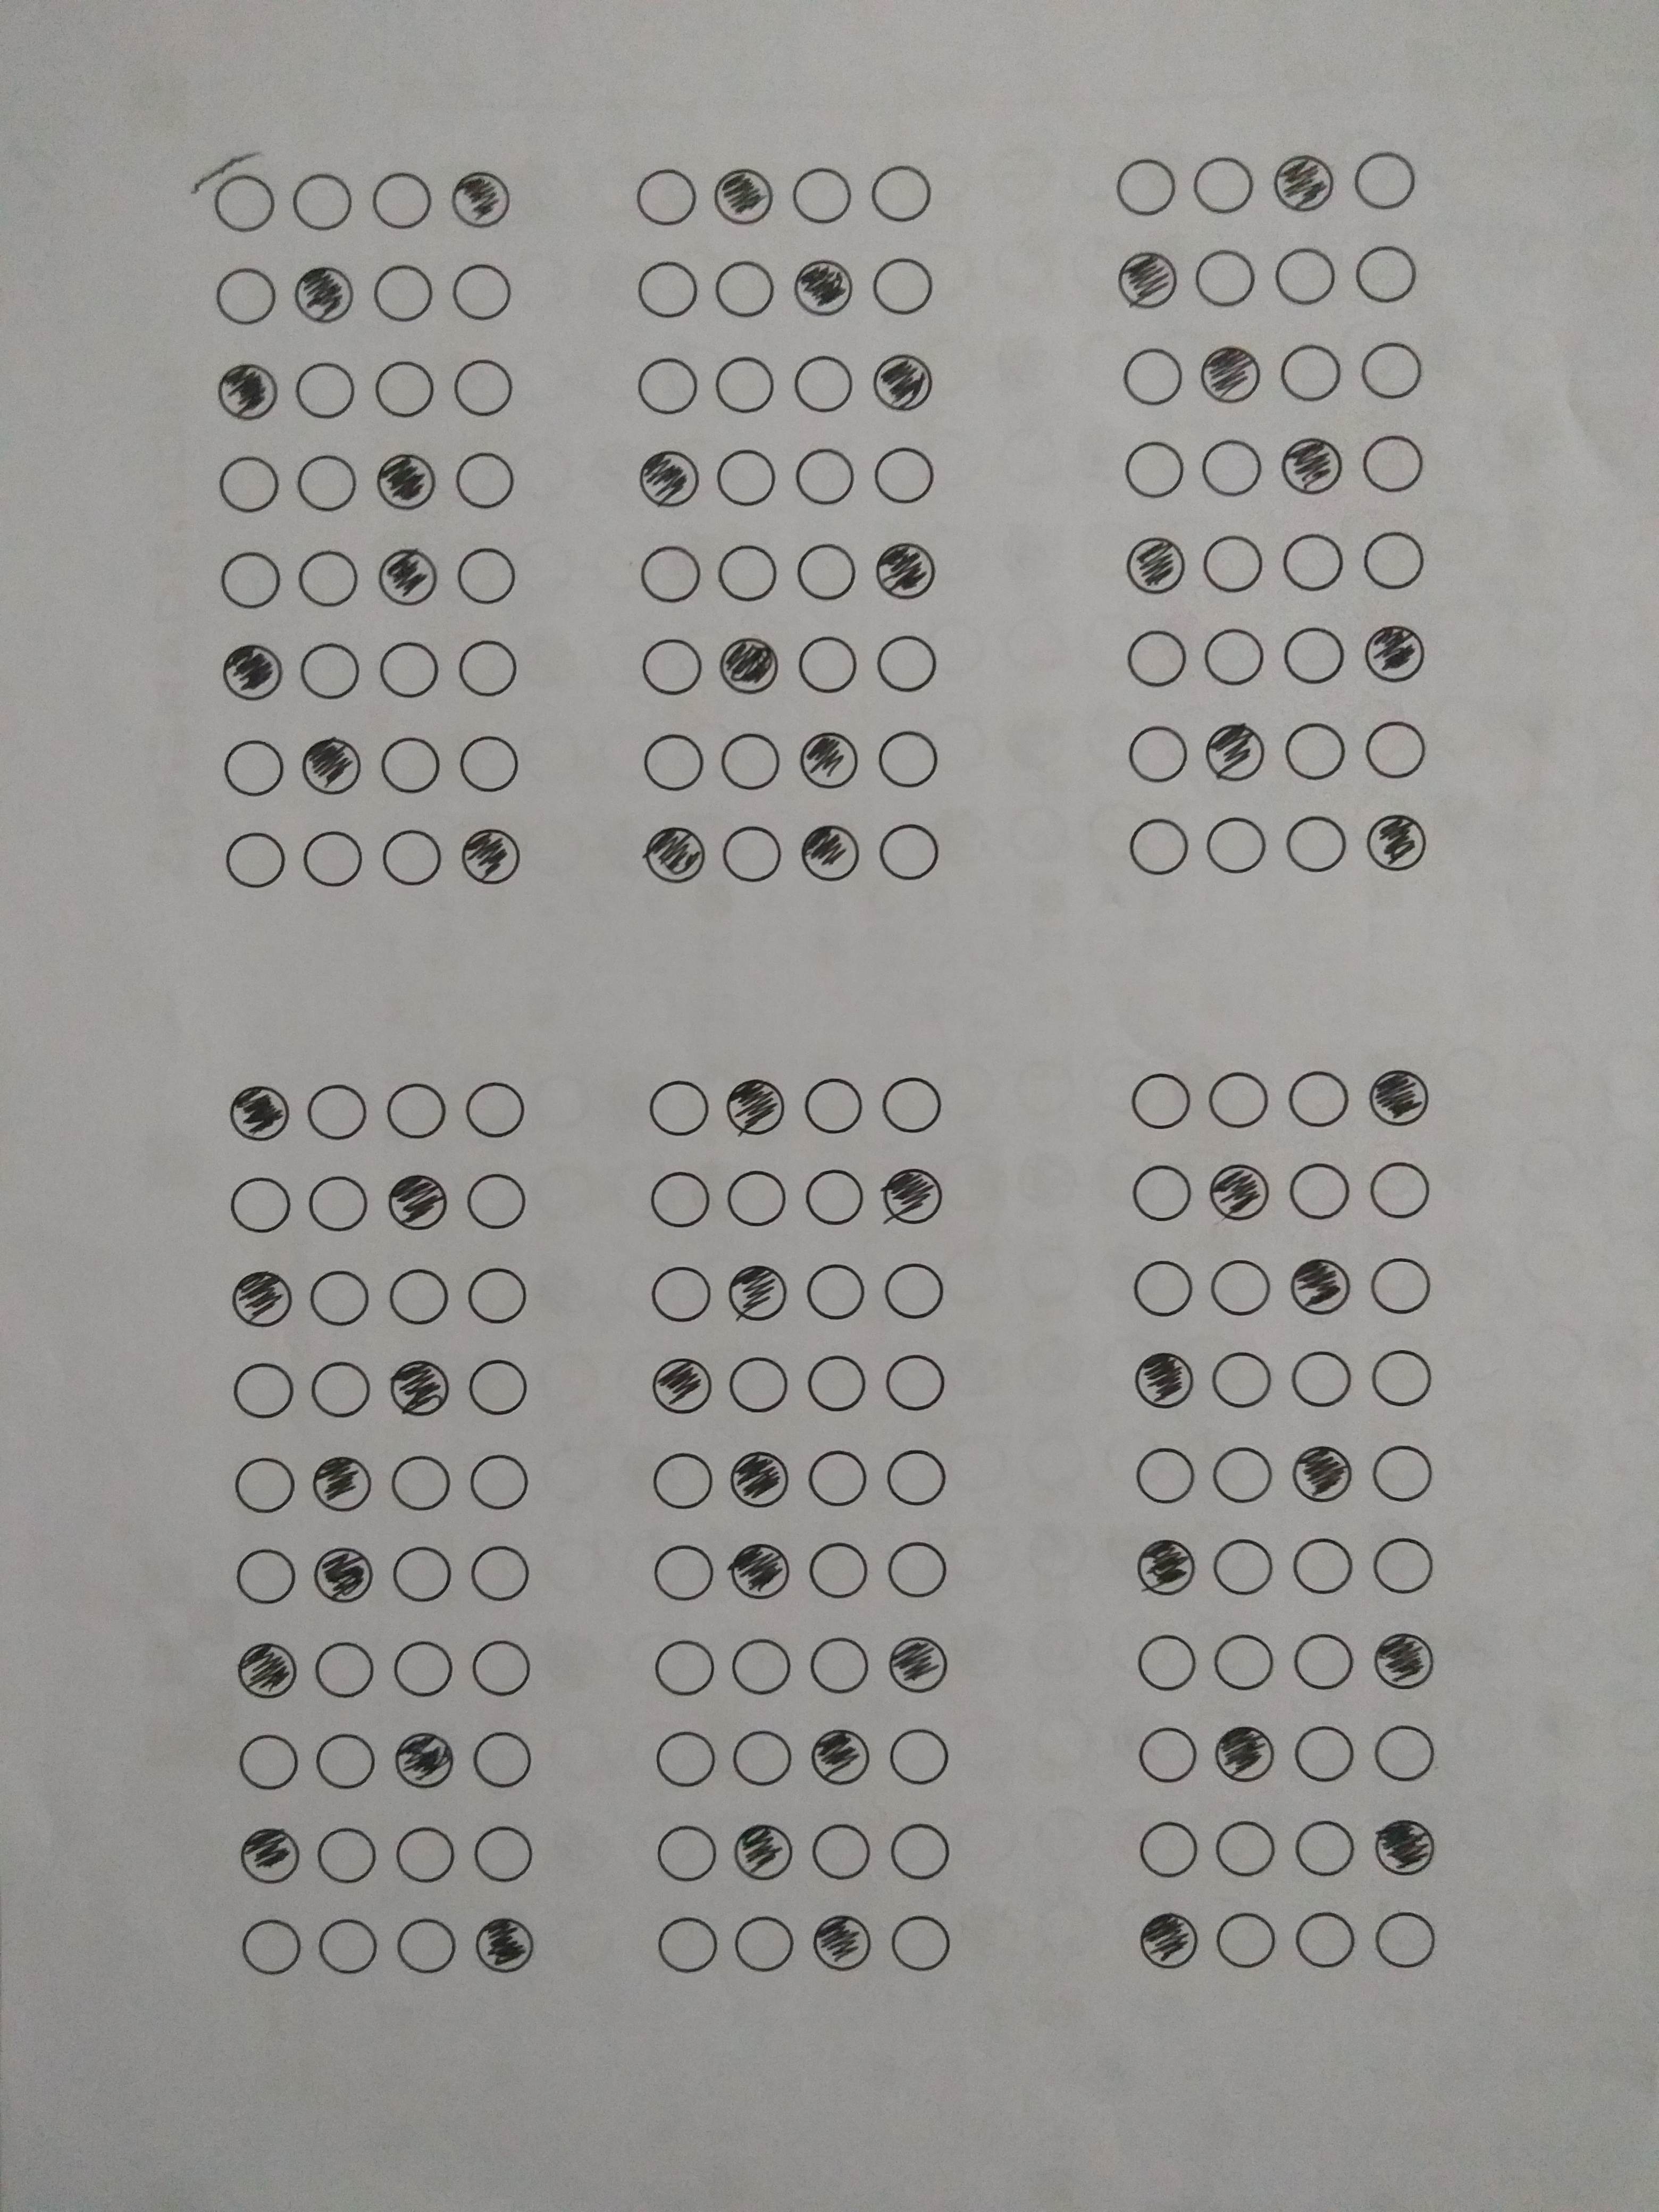not-c: (209, 169, 281, 240), (368, 169, 439, 235), (211, 263, 284, 327), (286, 171, 359, 235), (1347, 148, 1419, 212), (638, 540, 708, 604), (1279, 622, 1349, 686), (1290, 1817, 1359, 1881), (364, 261, 436, 324), (298, 827, 369, 890), (218, 826, 289, 888), (451, 733, 523, 796), (375, 639, 446, 702), (450, 545, 521, 608), (289, 547, 361, 610), (214, 547, 286, 610), (450, 451, 521, 514), (213, 453, 284, 516), (448, 355, 519, 418), (444, 263, 516, 326), (871, 728, 943, 791), (716, 733, 788, 796), (716, 820, 788, 883), (307, 1266, 378, 1329), (464, 1169, 535, 1231), (875, 1073, 946, 1136), (796, 1075, 868, 1137), (301, 1080, 373, 1143), (1283, 810, 1354, 873), (633, 352, 704, 415), (870, 442, 941, 505), (795, 540, 866, 603), (718, 543, 789, 606), (791, 632, 863, 695), (784, 165, 856, 228), (870, 256, 941, 319), (709, 258, 781, 320), (633, 261, 704, 324), (1197, 434, 1269, 496), (1359, 340, 1431, 402), (1269, 246, 1340, 308), (1188, 244, 1260, 307), (1107, 157, 1178, 219), (1283, 718, 1354, 780), (1277, 529, 1349, 592), (1358, 528, 1429, 590), (1288, 1536, 1359, 1599), (1209, 1534, 1281, 1597), (1368, 1442, 1439, 1505), (1206, 1442, 1277, 1505), (1131, 1442, 1202, 1505), (1368, 1346, 1439, 1409), (1208, 1346, 1279, 1409), (1363, 1256, 1434, 1318), (1202, 1258, 1274, 1320), (1126, 1256, 1197, 1318), (1364, 1157, 1436, 1219), (1288, 1158, 1359, 1221), (1126, 1158, 1197, 1221), (1126, 1069, 1197, 1132), (1133, 1632, 1204, 1695), (1366, 1536, 1438, 1599), (1368, 1907, 1439, 1970), (1288, 1905, 1359, 1968), (1208, 1905, 1279, 1968), (1370, 1717, 1441, 1780), (1290, 1723, 1361, 1785), (1133, 1724, 1204, 1787), (1284, 1629, 1356, 1691), (1206, 1632, 1277, 1695), (312, 1728, 380, 1792), (373, 733, 443, 796), (218, 735, 288, 798), (455, 636, 525, 698), (298, 639, 368, 702), (293, 451, 362, 514), (368, 357, 437, 420), (291, 359, 361, 421), (641, 728, 711, 791), (873, 820, 943, 883), (376, 822, 446, 885), (305, 1172, 375, 1235), (645, 1076, 714, 1139), (460, 1076, 530, 1139), (382, 1078, 451, 1141), (708, 354, 777, 416), (791, 446, 861, 509), (713, 449, 782, 512), (873, 632, 943, 695), (638, 636, 708, 698), (866, 162, 936, 225), (631, 167, 701, 230), (789, 352, 859, 415), (1197, 528, 1267, 590), (1358, 432, 1427, 495), (1119, 437, 1188, 500), (1281, 340, 1351, 402), (1119, 345, 1188, 408), (1354, 242, 1424, 305), (1190, 155, 1260, 218), (1363, 718, 1432, 780), (1122, 719, 1192, 782), (1201, 620, 1270, 683), (1121, 624, 1190, 686), (1204, 813, 1274, 876), (1124, 815, 1194, 878), (1288, 1346, 1358, 1409), (1284, 1068, 1354, 1130), (1206, 1066, 1276, 1129), (1215, 1817, 1284, 1879), (1134, 1818, 1204, 1881), (230, 1454, 298, 1517), (802, 1165, 870, 1228), (728, 1909, 796, 1972), (655, 1912, 723, 1975), (390, 1912, 458, 1975), (239, 1914, 307, 1977), (472, 1824, 540, 1886), (387, 1824, 455, 1886), (314, 1824, 382, 1886), (471, 1726, 538, 1789), (235, 1730, 303, 1792), (310, 1639, 378, 1702), (467, 1540, 535, 1602), (230, 1543, 298, 1606), (467, 1454, 535, 1517), (803, 1541, 871, 1604), (650, 1543, 718, 1606), (805, 1635, 873, 1698), (728, 1637, 796, 1700), (652, 1635, 720, 1698), (728, 1723, 796, 1785), (650, 1824, 718, 1886), (885, 1912, 953, 1975), (648, 1169, 716, 1231), (880, 1261, 948, 1324), (805, 1259, 873, 1322), (880, 1352, 948, 1414), (802, 1352, 870, 1414), (727, 1353, 795, 1416), (802, 1447, 870, 1510), (648, 1447, 716, 1510), (225, 1176, 296, 1235), (310, 1357, 376, 1420), (232, 1359, 298, 1421), (315, 1916, 382, 1979), (467, 1635, 533, 1698), (390, 1637, 457, 1700), (389, 1540, 455, 1602), (387, 1451, 453, 1514), (884, 1541, 950, 1604), (885, 1726, 951, 1789), (650, 1728, 716, 1791), (810, 1818, 877, 1881), (889, 1822, 955, 1885), (647, 1264, 713, 1327), (884, 1449, 950, 1512), (725, 1165, 791, 1228), (464, 1359, 532, 1418), (462, 1266, 532, 1324), (389, 1263, 451, 1325)
taken-c: (1279, 435, 1349, 500), (1364, 810, 1431, 876), (1270, 152, 1338, 216), (450, 165, 516, 230), (373, 449, 437, 516), (1363, 622, 1429, 686), (1124, 533, 1188, 597), (1371, 1627, 1436, 1691), (643, 822, 706, 888), (1201, 341, 1267, 404), (232, 1268, 298, 1331), (648, 1353, 714, 1416), (730, 1820, 796, 1883), (1373, 1815, 1439, 1878), (1208, 1162, 1274, 1224), (1368, 1066, 1434, 1129), (289, 263, 359, 322), (796, 728, 859, 792), (878, 1165, 943, 1228), (727, 1447, 791, 1510), (1291, 1442, 1356, 1505), (300, 732, 361, 798), (634, 448, 701, 509), (1202, 723, 1269, 784), (1211, 1723, 1277, 1784), (718, 634, 781, 697), (795, 256, 857, 319), (394, 1728, 457, 1791), (376, 543, 437, 608), (390, 1355, 451, 1420), (727, 1261, 791, 1322), (1134, 1538, 1199, 1599), (1131, 1348, 1195, 1409), (1288, 1258, 1352, 1318), (709, 165, 775, 225), (216, 361, 279, 421), (221, 641, 284, 702), (460, 824, 521, 887), (877, 540, 938, 603), (474, 1912, 535, 1975), (725, 1076, 788, 1137), (807, 1724, 870, 1785), (810, 1909, 873, 1970), (870, 354, 934, 413), (798, 822, 859, 883), (1117, 249, 1178, 310), (387, 1170, 450, 1230), (312, 1454, 375, 1514), (887, 1635, 950, 1695), (240, 1825, 300, 1886), (732, 1538, 791, 1599), (228, 1083, 291, 1141), (314, 1545, 376, 1602), (235, 1641, 298, 1698), (1136, 1912, 1199, 1970)
